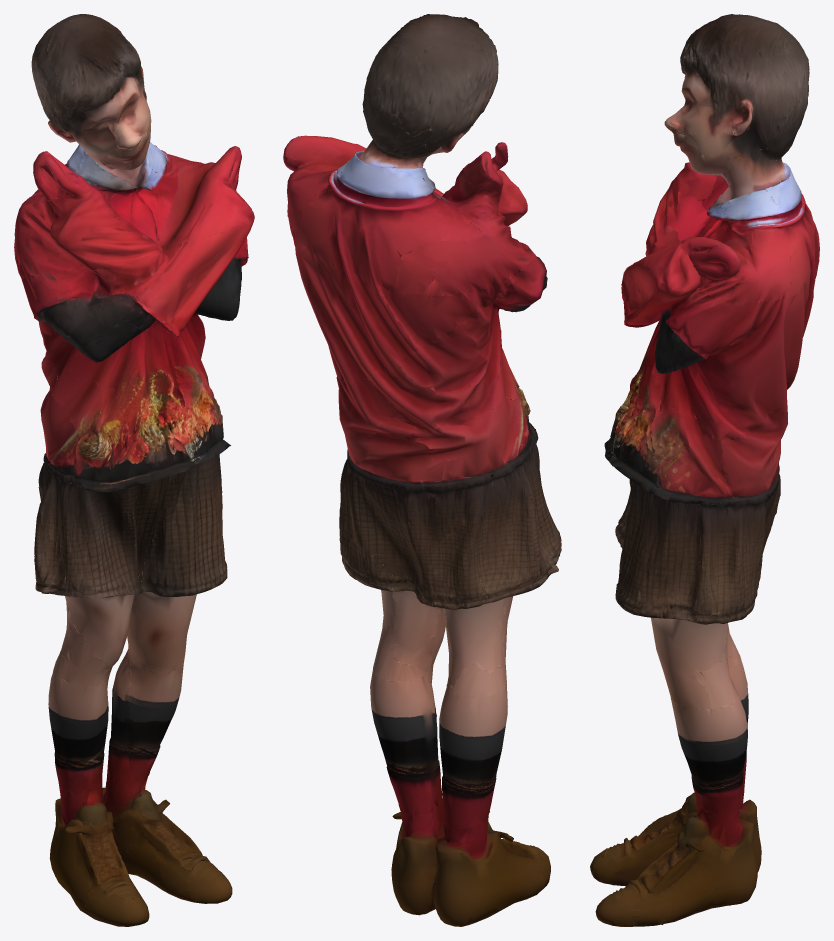
Rendered from anaelle.glb.
3 renders of one model, left to right at view 1: azimuth 30°, elevation 25°; view 2: azimuth 150°, elevation 25°; view 3: azimuth 270°, elevation 25°, orthographic. The views are drawn at different scales.
Visible parts, largest first — view 1: tmpr1ecbi9g.obj; view 2: tmpr1ecbi9g.obj; view 3: tmpr1ecbi9g.obj.
Boxes of the visible parts, box(x1,y1,x2,y2) form: tmpr1ecbi9g.obj: box(14, 14, 254, 926); tmpr1ecbi9g.obj: box(283, 14, 561, 926); tmpr1ecbi9g.obj: box(590, 14, 819, 926).
Size of the model in its own units: 0.5138 by 1.82 by 0.4374.
1 material, 1 textured.
